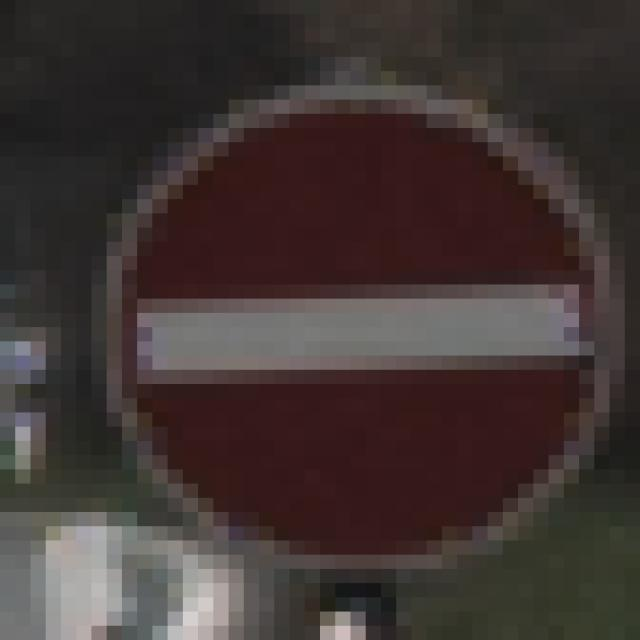No Entry: (77, 72, 565, 556)
